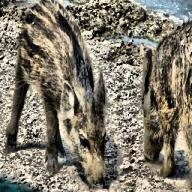boar: (4, 0, 107, 190), (140, 17, 192, 190)
